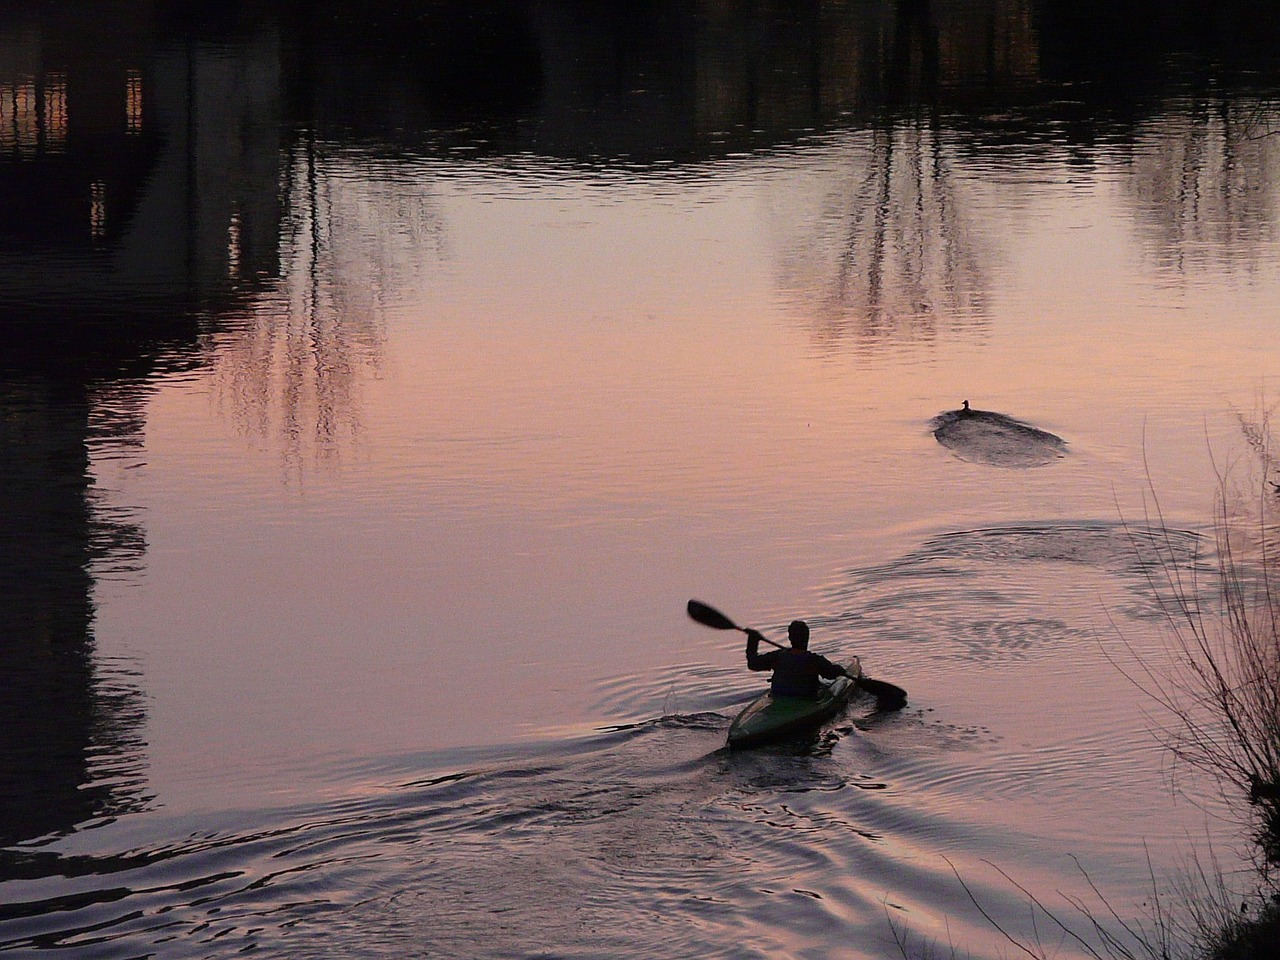kayak: (725, 652, 863, 753)
